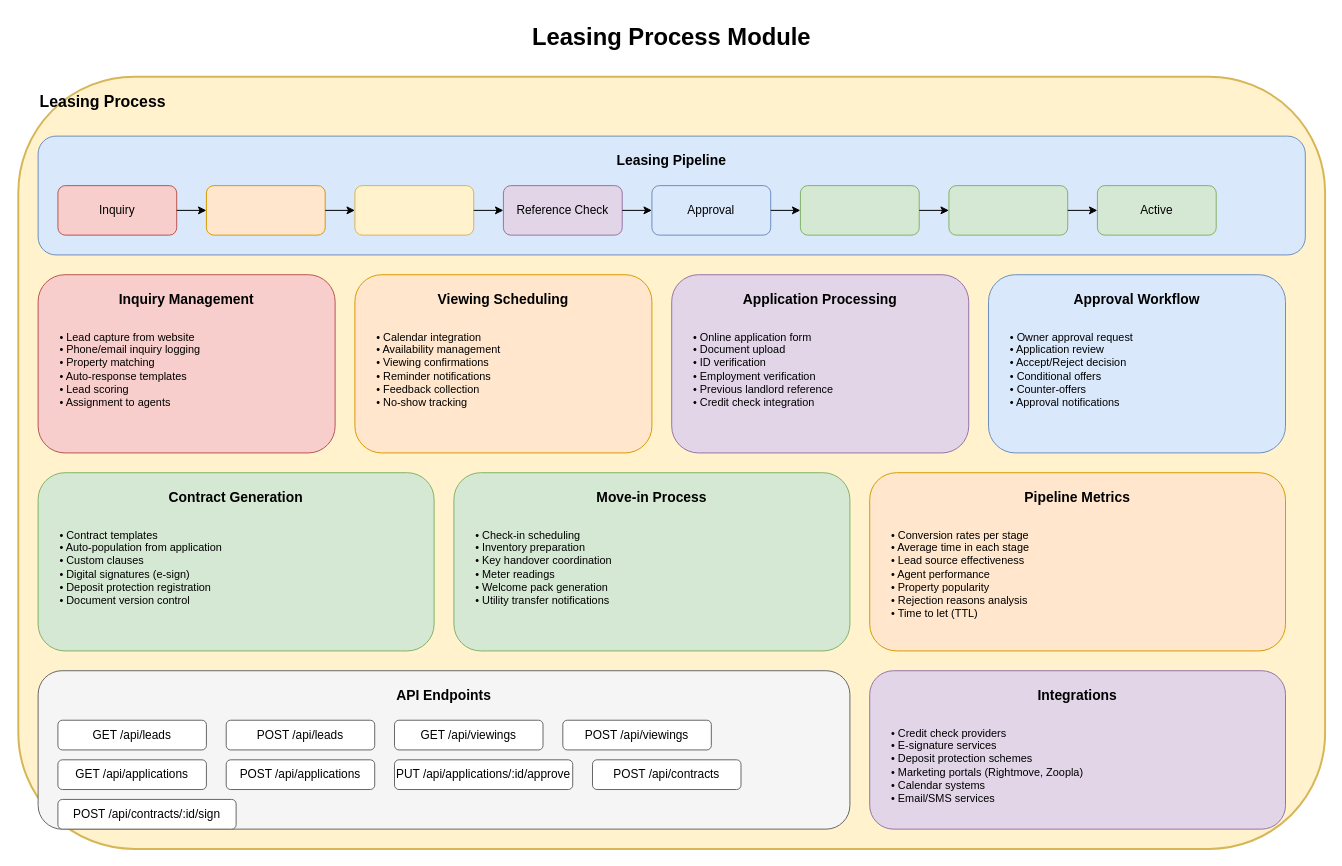
Image size: 1342x866. Some labels were removed from this diagram. Here are the shapes that lost their labels. From the top down, the box of each, then its label:
(205, 185, 325, 235): Viewing
(354, 185, 474, 235): Application
(799, 185, 919, 235): Contract
(948, 185, 1068, 235): Move-in
